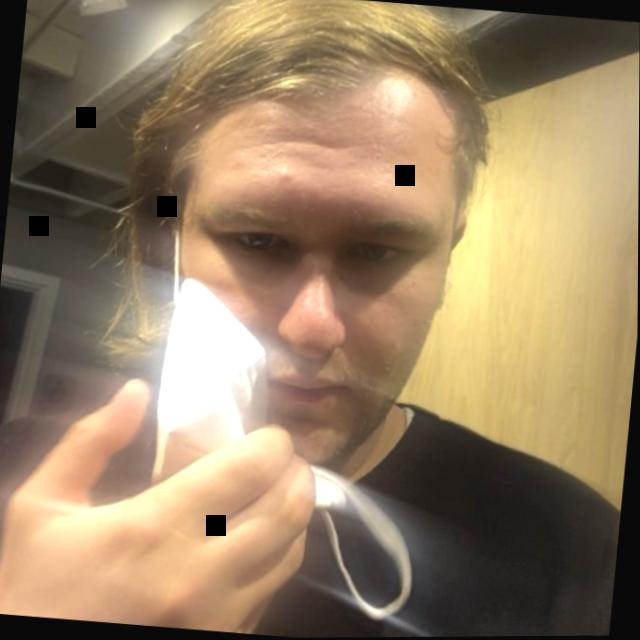NO-Mask: (114, 0, 524, 539)
